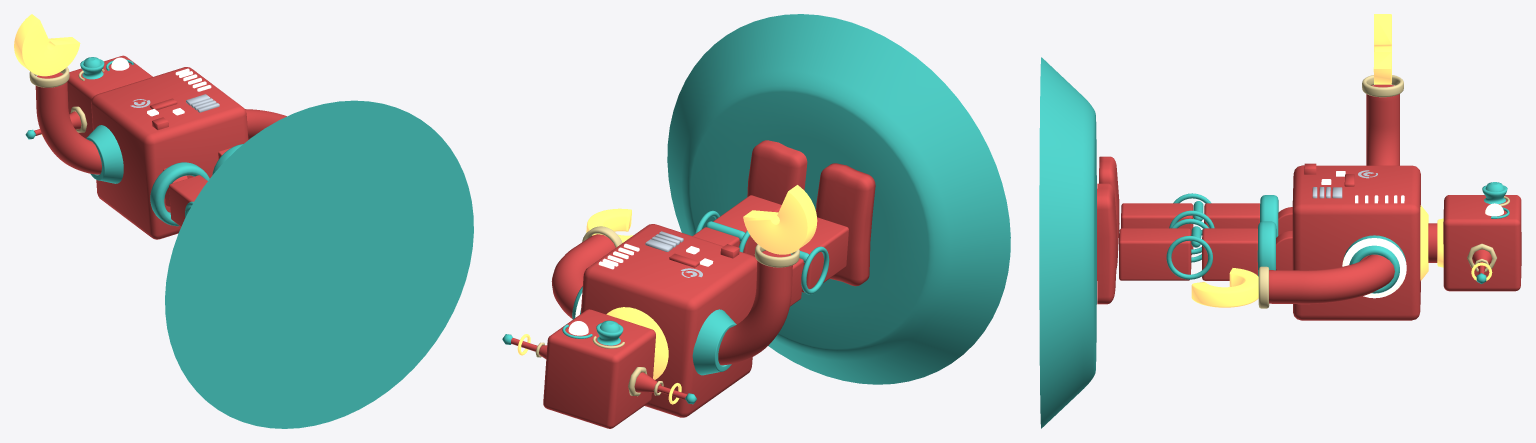
Rendered from robot.glb.
3 views of the same model, side by side, from view 1: azimuth 30°, elevation 25°; view 2: azimuth 150°, elevation 25°; view 3: azimuth 270°, elevation 25° (orthographic). The views are drawn at different scales.
Visible parts, largest first — view 1: Stand, Body, Arm_2, Hand_2, Head, Arm_base_2, LegBase_2, Leg_2, Arm, Wrist_2, Loft_1; view 2: Stand, Body, Head, Foot_2, Arm_2, Hand_2, Foot, Arm, Shin_2, Arm_base_2, Shin, Neckbase (+7 smaller); view 3: Stand, Body, Head, Arm, Shin, Leg, Arm_2, Foot, Hand, Shin_2, Leg_2, Hand_2 (+11 smaller).
Boxes of the visible parts, box(x1,y1,x2,y2) form: Stand: box(165, 100, 473, 428); Body: box(91, 67, 248, 239); Arm_2: box(35, 72, 101, 174); Hand_2: box(14, 14, 80, 76); Head: box(67, 55, 152, 138); Arm_base_2: box(86, 125, 123, 183); LegBase_2: box(150, 162, 209, 226); Leg_2: box(169, 175, 207, 226); Arm: box(245, 109, 286, 139); Wrist_2: box(29, 67, 69, 87); Loft_1: box(80, 57, 104, 79); Stand: box(667, 14, 1010, 384); Body: box(581, 224, 757, 417); Head: box(543, 309, 655, 428); Foot_2: box(816, 163, 875, 286); Arm_2: box(718, 250, 792, 365); Hand_2: box(743, 185, 817, 254); Foot: box(747, 140, 807, 204); Arm: box(551, 234, 615, 318); Shin_2: box(799, 217, 848, 292); Arm_base_2: box(692, 309, 736, 375); Shin: box(713, 195, 781, 256); Neckbase: box(606, 307, 668, 379); Stand: box(1039, 57, 1096, 428); Body: box(1292, 165, 1420, 320); Head: box(1443, 195, 1521, 291); Arm: box(1269, 254, 1394, 304); Shin: box(1119, 228, 1191, 280); Leg: box(1202, 228, 1257, 280); Arm_2: box(1366, 84, 1399, 165); Foot: box(1097, 183, 1117, 304); Hand: box(1191, 268, 1258, 307); Shin_2: box(1121, 203, 1193, 254); Leg_2: box(1204, 203, 1259, 228); Hand_2: box(1373, 14, 1391, 84).
Size of what is drawn, in the model's own units: 68.45 by 68.19 by 88.43.
